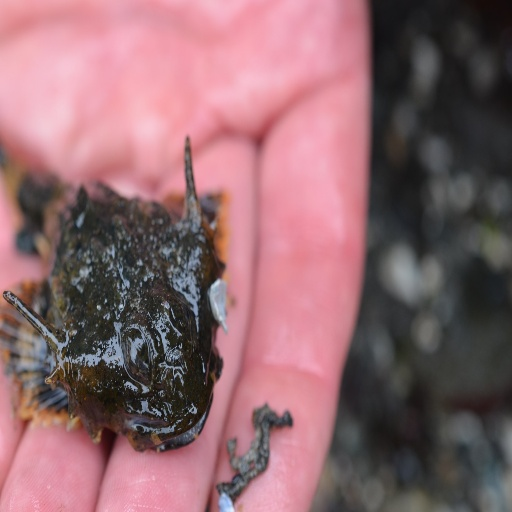hand: (0, 0, 370, 511)
